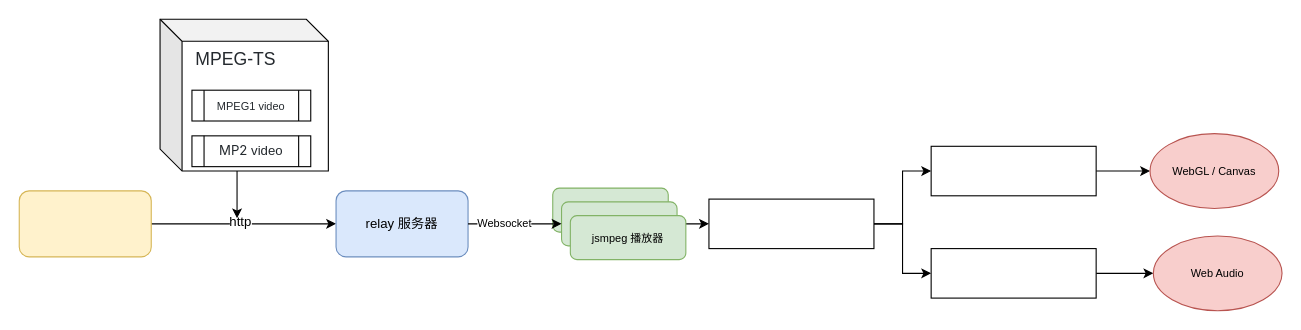
This 1301x330 diagram has some shape labels left out. The box of each missing label's shape, as (x1, y1, x2, y2) in pixels:
MP2 Audio decoder: (930, 248, 1096, 298)
MPEG-TS demuxer: (708, 198, 874, 249)
MPEG1 Video decoder: (930, 145, 1096, 196)
推送端(如 ffmpeg): (18, 190, 151, 257)
